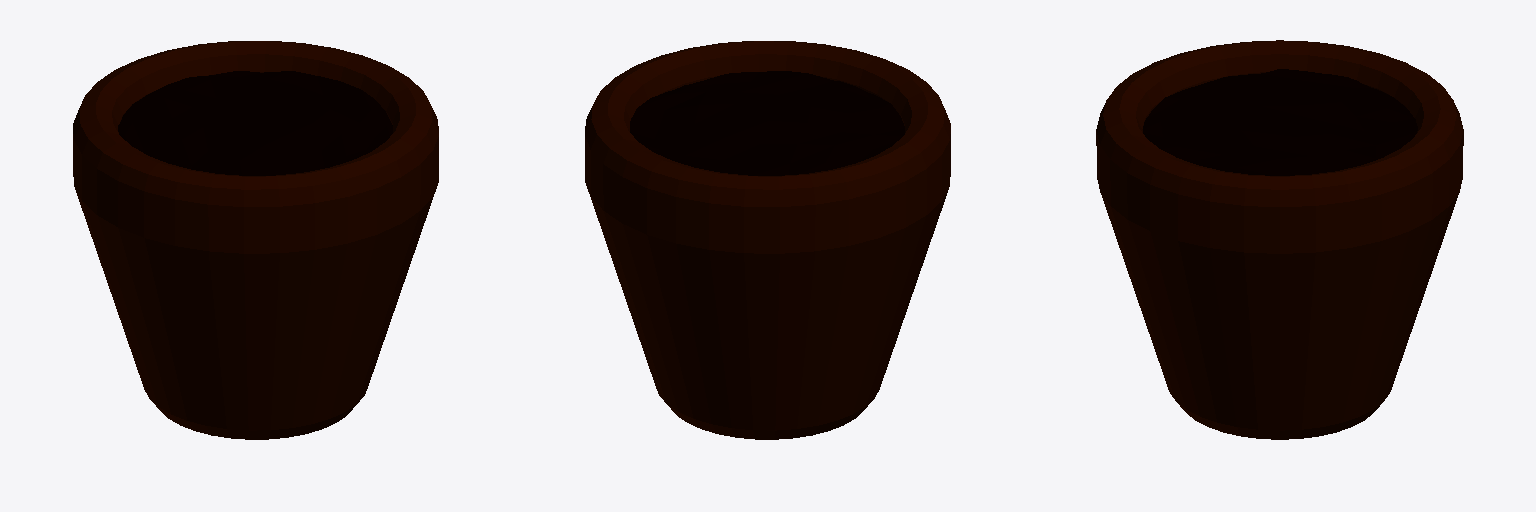
The model's file is flower.obj.
3 views of the same model, side by side, from view 1: azimuth 30°, elevation 25°; view 2: azimuth 150°, elevation 25°; view 3: azimuth 270°, elevation 25° (orthographic).
Visible parts, largest first — view 1: Circle, Circle.001; view 2: Circle, Circle.001; view 3: Circle, Circle.001.
Boxes of the visible parts, x1,y1,x2,y2 form: Circle: [73, 41, 438, 439]; Circle.001: [118, 71, 392, 175]; Circle: [585, 41, 950, 439]; Circle.001: [630, 71, 904, 175]; Circle: [1096, 40, 1463, 439]; Circle.001: [1143, 69, 1417, 175].
Size of the model in its own units: 0.2388 by 0.2109 by 0.2388.